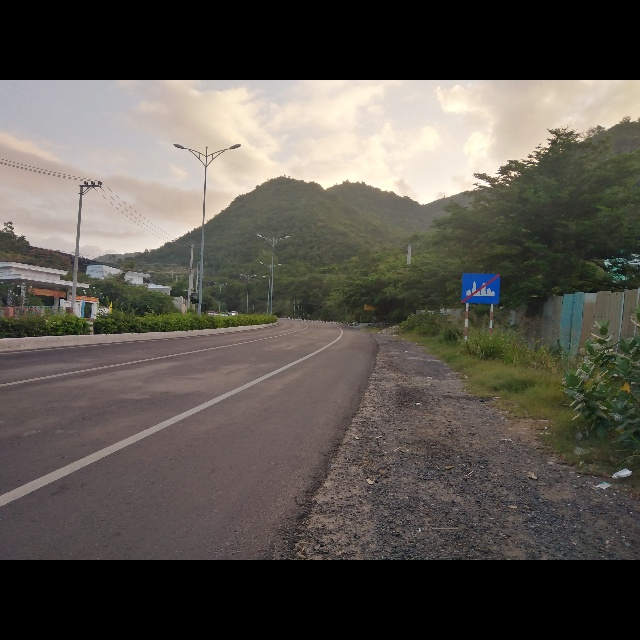Hết khu đông dân cư: (460, 272, 501, 305)
